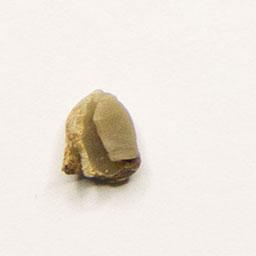defect: (53, 81, 149, 191)
